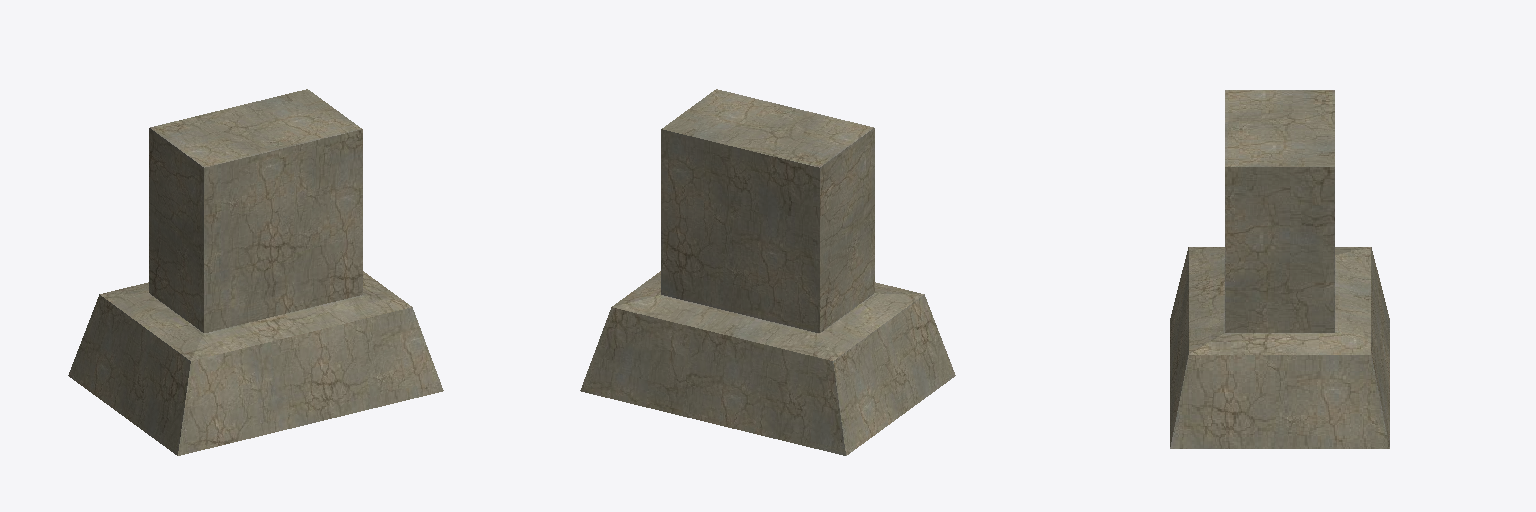
3 renders of one model, left to right at view 1: azimuth 30°, elevation 25°; view 2: azimuth 150°, elevation 25°; view 3: azimuth 270°, elevation 25°, orthographic.
Size of the model in its own units: 1.68 by 1.54 by 1.2.
1 materials, 1 textured.